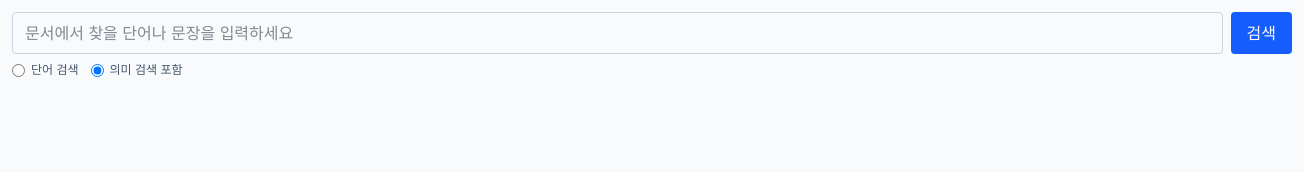
it: DocumentSearch › 빈 검색어는 검증 안내를 보여주고 검색을 요청하지 않는다
Expected: the search field is shown, x1=12 y1=12 x2=1222 y2=54
Click the button "검색" at (1261, 33), box x1=1230 y1=12 x2=1292 y2=54
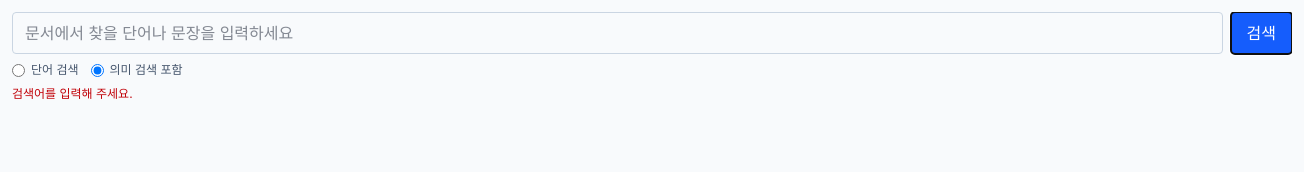
Expected: the text "검색어를 입력해 주세요." is shown, x1=12 y1=86 x2=133 y2=101
